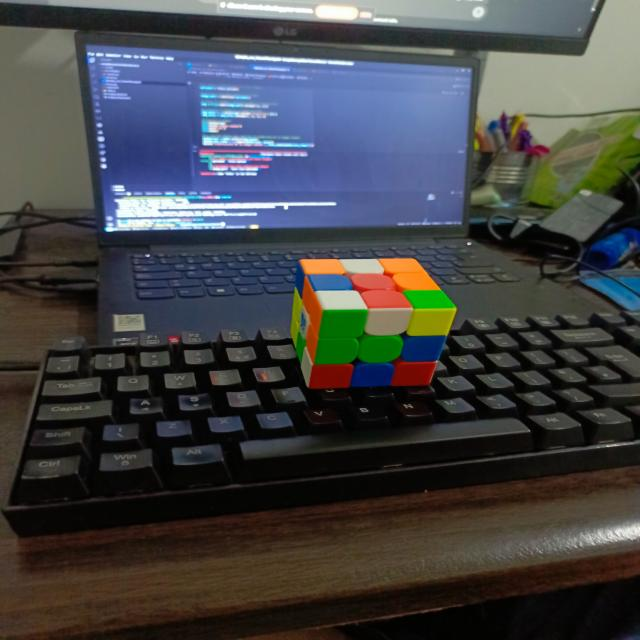rubik: (288, 255, 458, 389)
